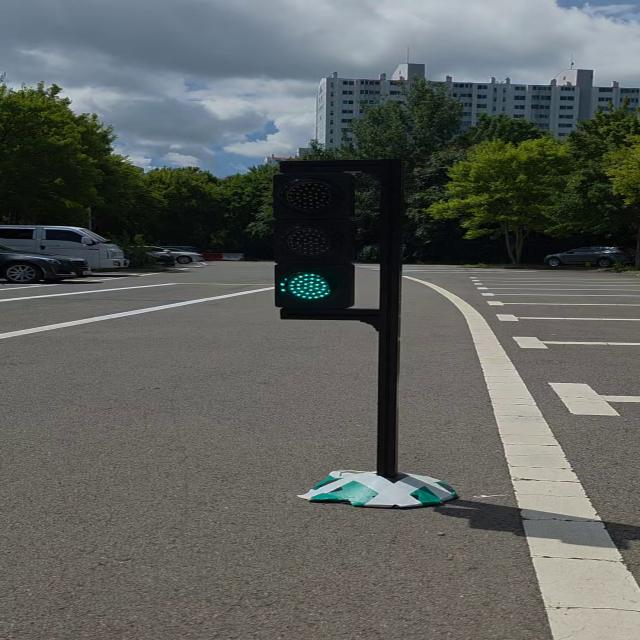green: (276, 163, 357, 315)
